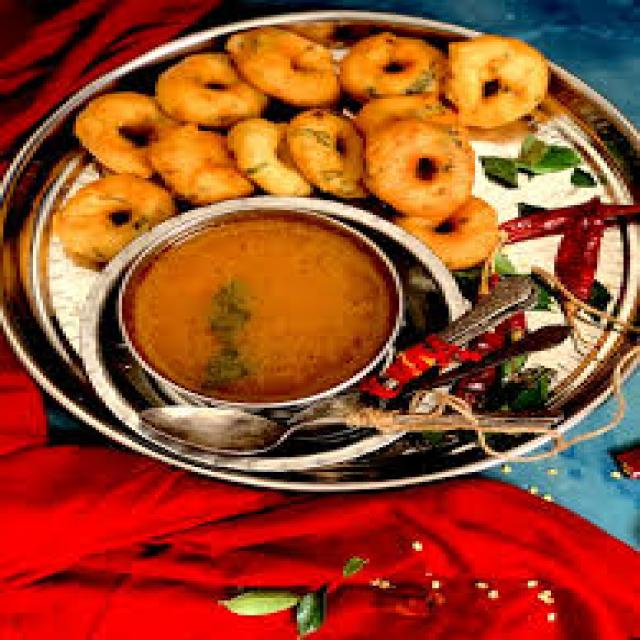MEDU VADA: (53, 175, 175, 267), (366, 119, 468, 225), (445, 35, 544, 126), (148, 124, 251, 203), (155, 52, 264, 126), (228, 27, 330, 104), (73, 94, 168, 175), (340, 32, 442, 96), (228, 121, 310, 195)
